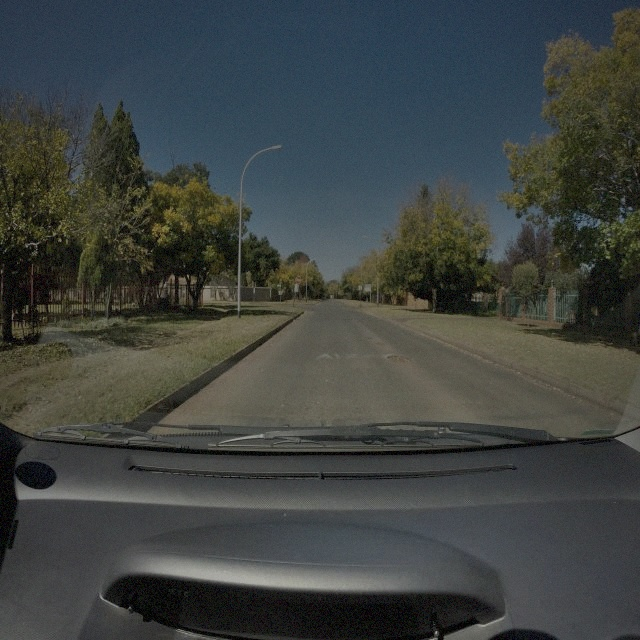pothole: (384, 353, 414, 366), (373, 340, 383, 347)
